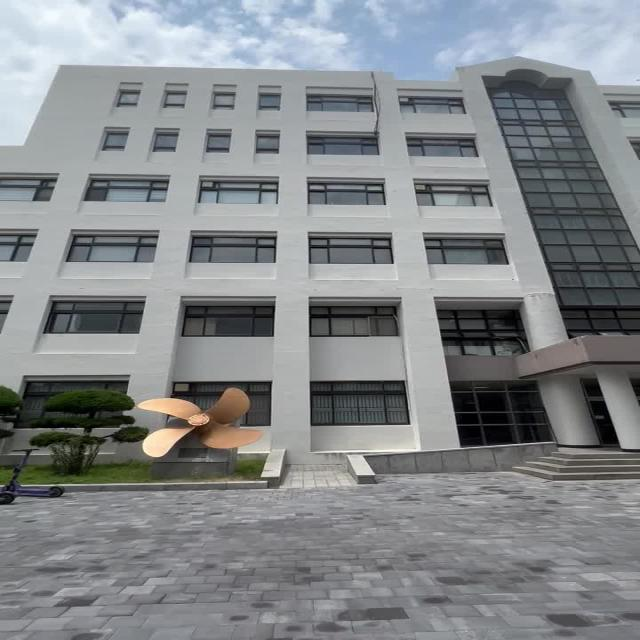building: (42, 34, 640, 462)
